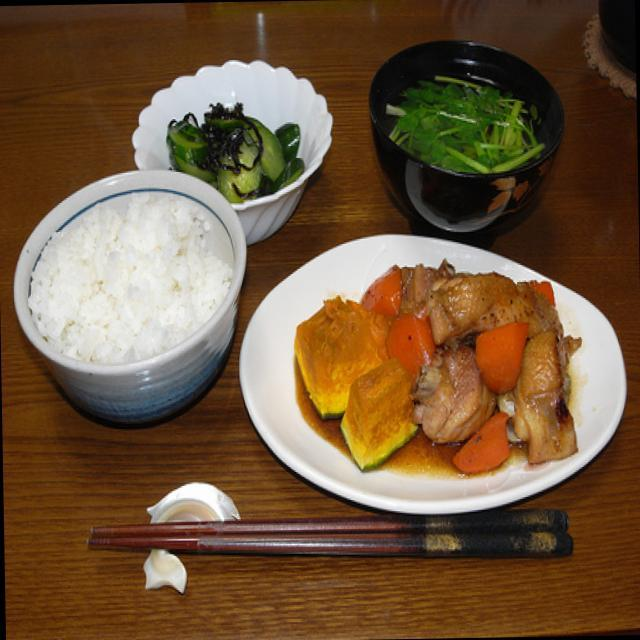Rice: (23, 174, 235, 367)
